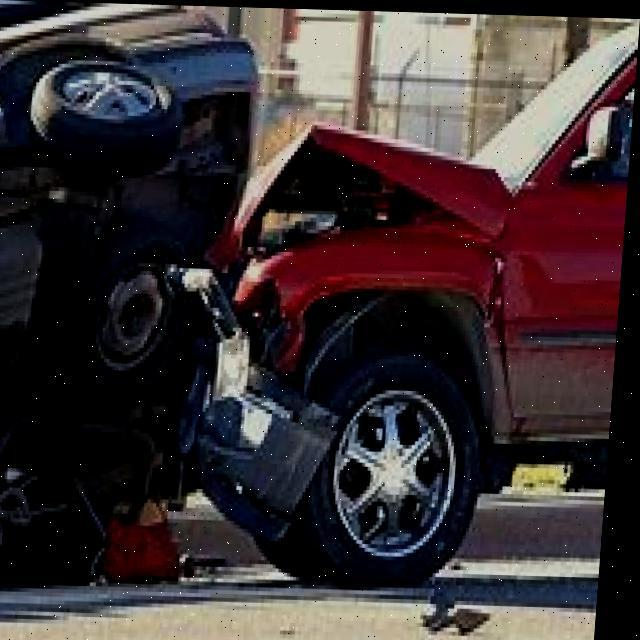multiple_accident: (25, 43, 462, 588)
